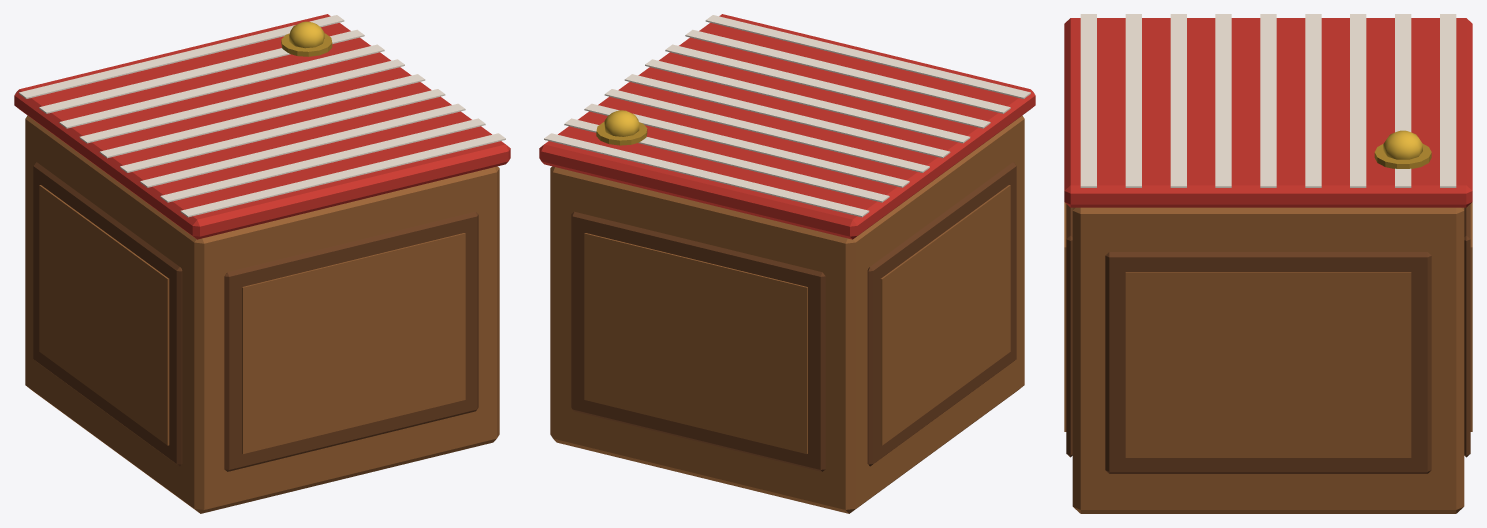
File: counter_serve.glb
3 renders of one model, left to right at view 1: azimuth 30°, elevation 25°; view 2: azimuth 150°, elevation 25°; view 3: azimuth 270°, elevation 25°, orthographic. The views are drawn at different scales.
Parts seen in each view (by area): view 1: counter_serve; view 2: counter_serve; view 3: counter_serve.
Boxes of the visible parts, x1,y1,x2,y2 form: counter_serve: (14, 14, 510, 513); counter_serve: (539, 14, 1035, 513); counter_serve: (1064, 14, 1472, 513).
Size of the model in its own units: 1 by 0.97 by 1.
